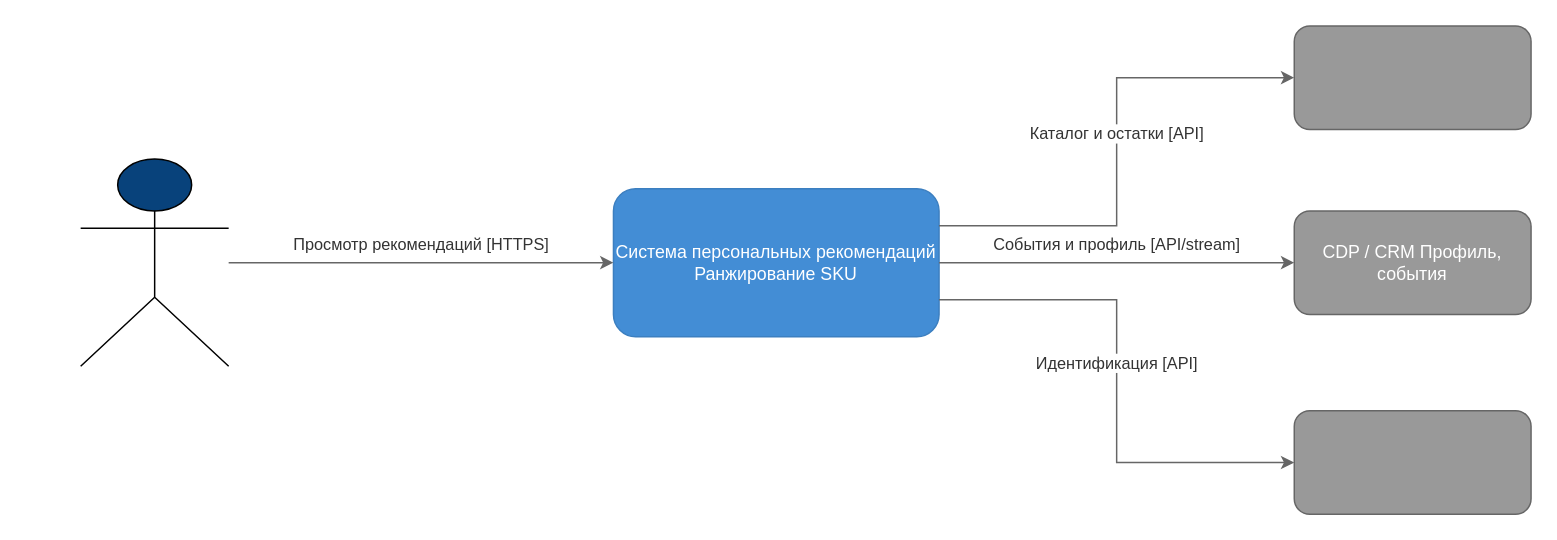
Some shapes in this 1557 by 540 pixel diagram are drawn without their labels. The centre of each missing label's shape, as x and y in pixels:
PIM Каталог, SKU: the point at 1412,77
Программа лояльности: the point at 1412,461
